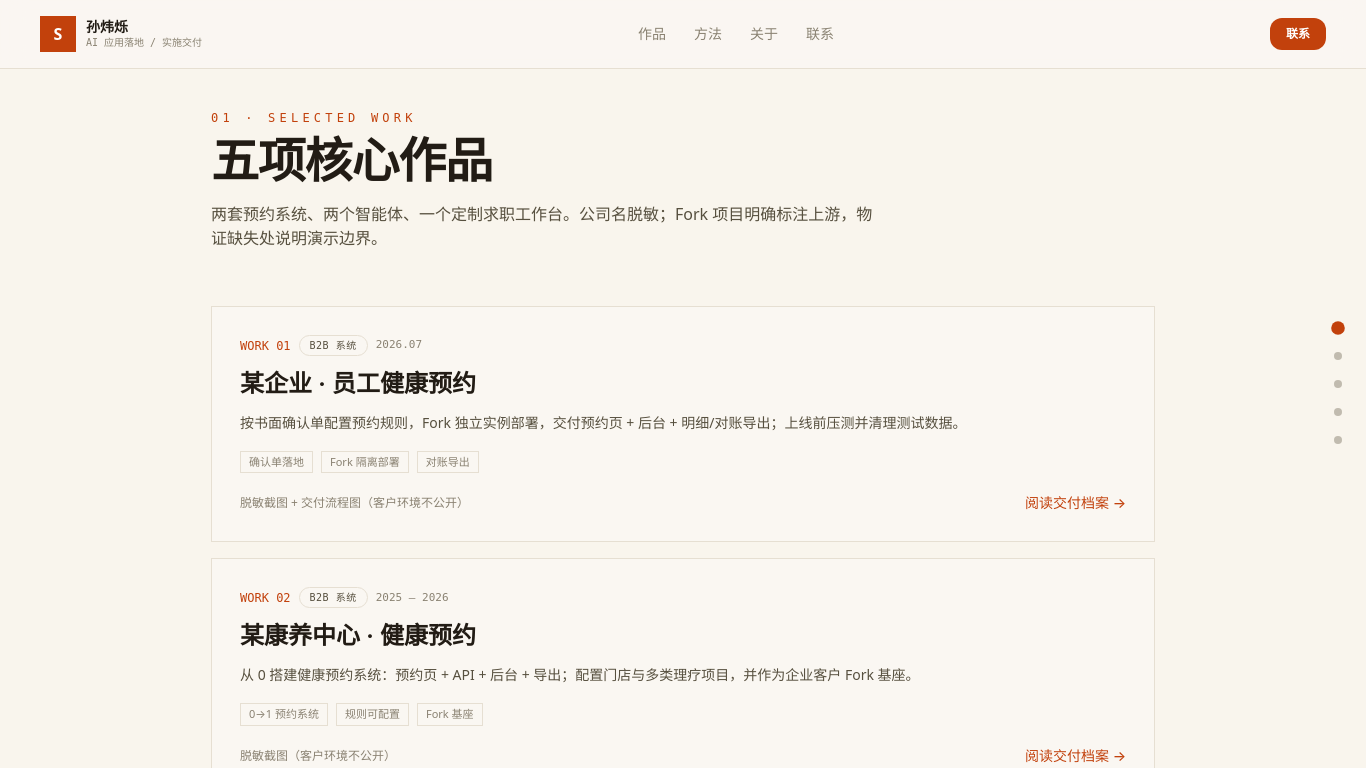
Scenario: App 单页路由 › 点击作品卡进入详情页
(page scrolled)
Click the link "WORK 01" at (683, 424), box [211, 306, 1155, 542]
(page scrolled)
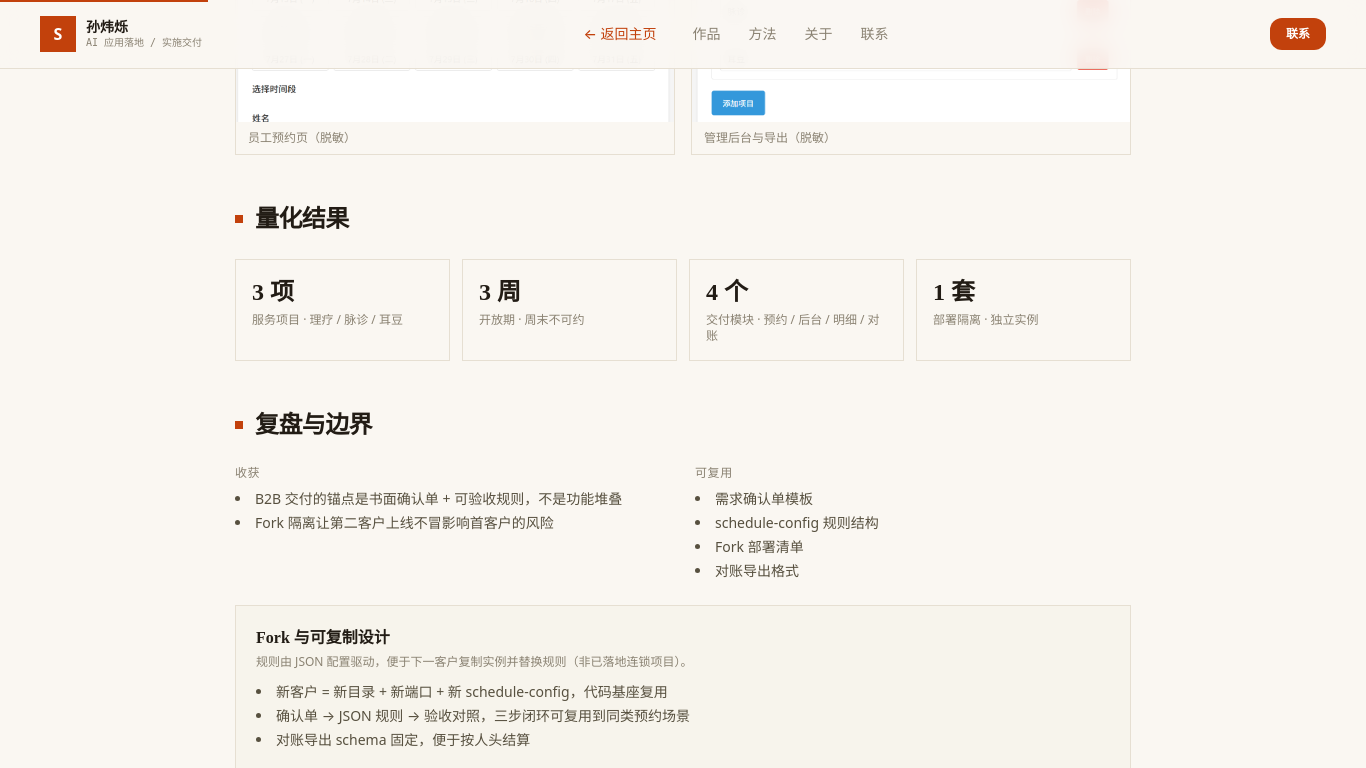
expect the heading "复盘与边界" is shown: met, box [255, 412, 372, 438]
